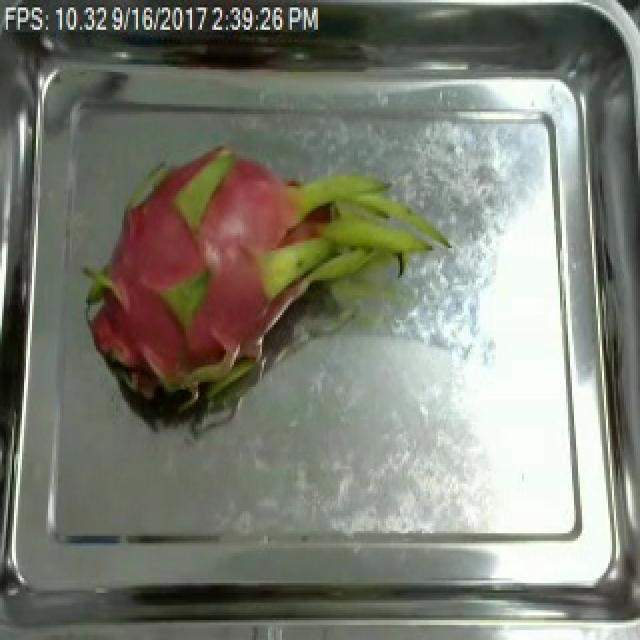fruit: (66, 111, 464, 452)
